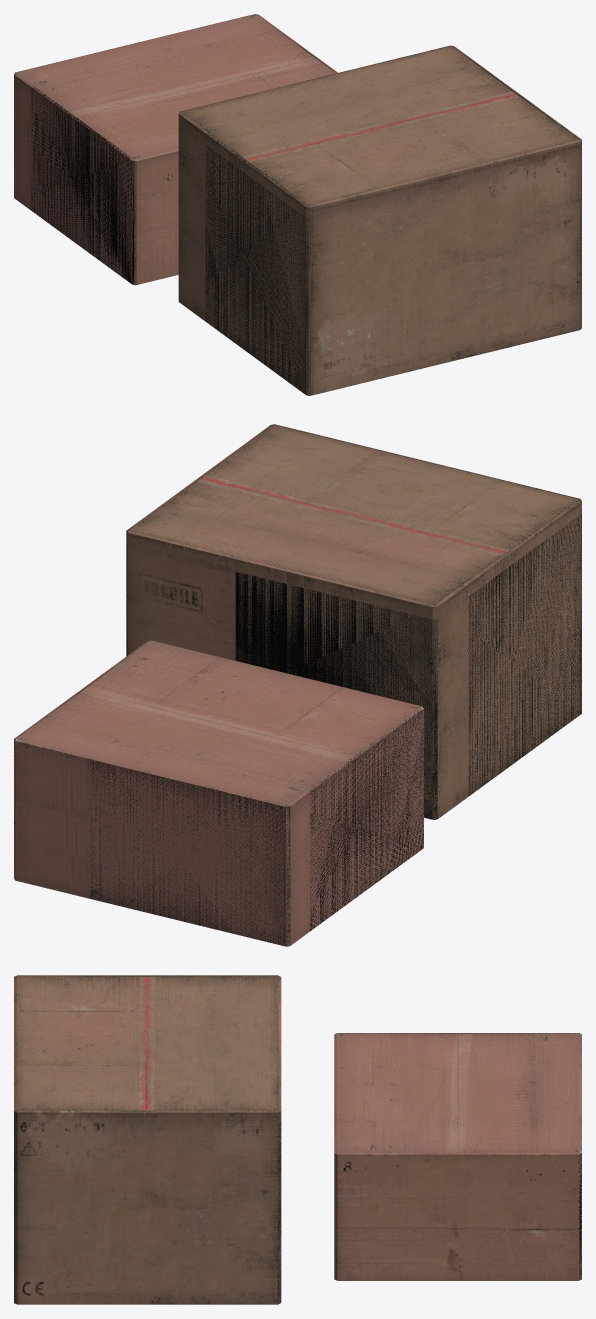
The model's file is Boxes.fbx.
3 renders of one model, top to bottom at view 1: azimuth 30°, elevation 25°; view 2: azimuth 150°, elevation 25°; view 3: azimuth 270°, elevation 25°, orthographic. The views are drawn at different scales.
Parts seen in each view (by area): view 1: Group2, Group1; view 2: Group2, Group1; view 3: Group2, Group1.
Part boxes in pixels (left/top/right/bottom): Group2: left=178, top=45, right=581, bottom=395; Group1: left=14, top=14, right=337, bottom=285; Group2: left=126, top=424, right=581, bottom=819; Group1: left=14, top=640, right=423, bottom=946; Group2: left=14, top=975, right=281, bottom=1304; Group1: left=334, top=1033, right=581, bottom=1280.
Bounding box in the file's own units: 49.3 × 30.59 × 81.23.
